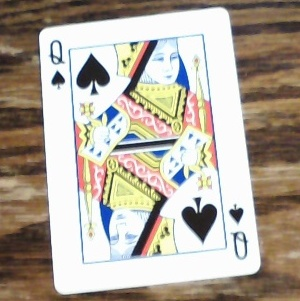card: (38, 7, 261, 294)
